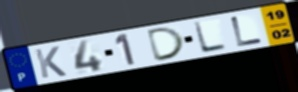1: (113, 32, 139, 67)
4: (72, 38, 107, 73)
D: (145, 25, 188, 63)
K: (32, 45, 69, 80)
L: (192, 20, 229, 54), (229, 14, 265, 48)
